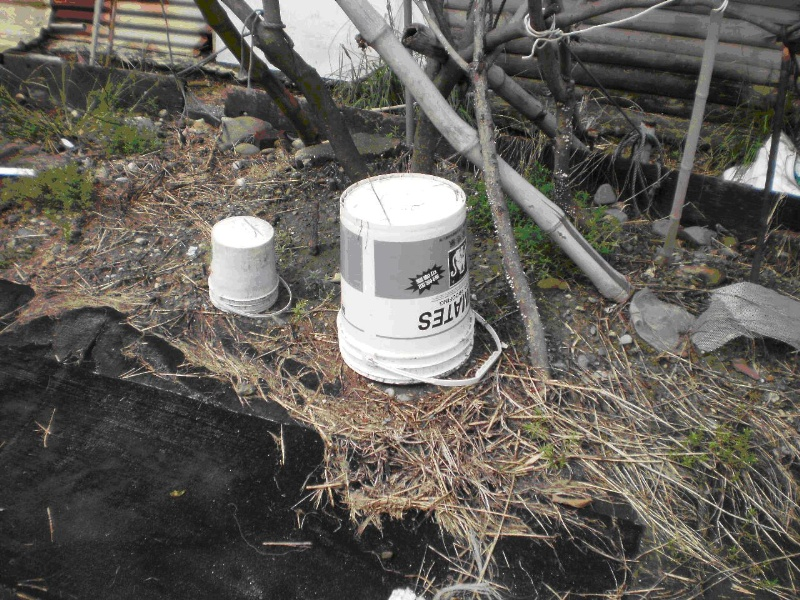bucket: (337, 170, 475, 386), (207, 215, 280, 316)
